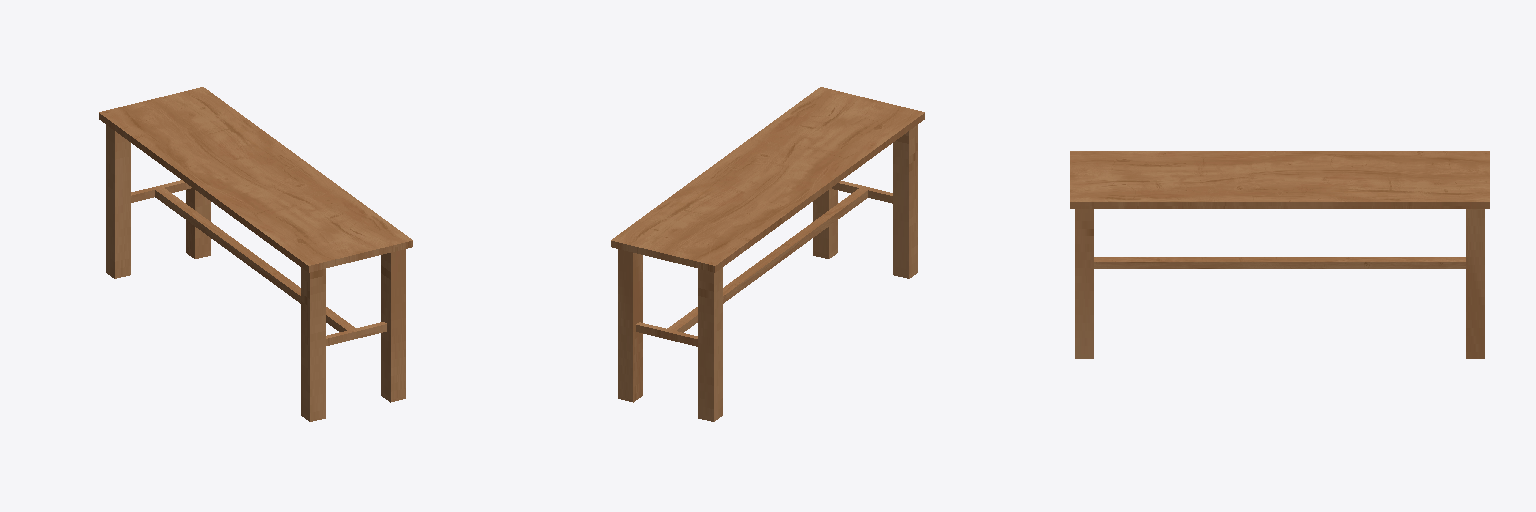
3 renders of one model, left to right at view 1: azimuth 30°, elevation 25°; view 2: azimuth 150°, elevation 25°; view 3: azimuth 270°, elevation 25°, orthographic.
Visible parts, largest first — view 1: Cube.002_Cube.005; view 2: Cube.002_Cube.005; view 3: Cube.002_Cube.005.
Part boxes in pixels (bbox=[...]): Cube.002_Cube.005: bbox=[99, 87, 412, 421]; Cube.002_Cube.005: bbox=[611, 87, 924, 421]; Cube.002_Cube.005: bbox=[1070, 151, 1489, 358].
Size of the model in its own units: 0.3804 by 0.5515 by 1.32.
1 materials, 1 textured.